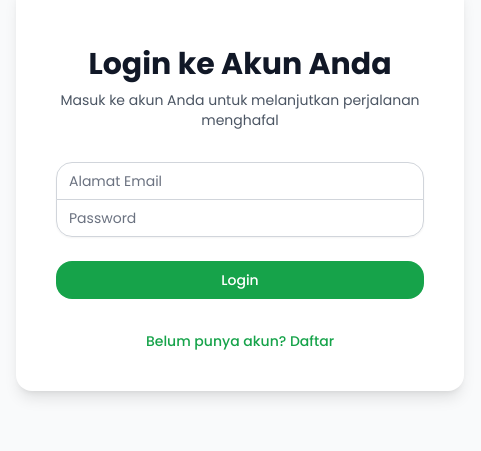
Login Page › login failure displays error message
Type "wrong@example.com" into the field with placeholder "Alamat Email". click: (240, 180)
box: [56,162,424,200]
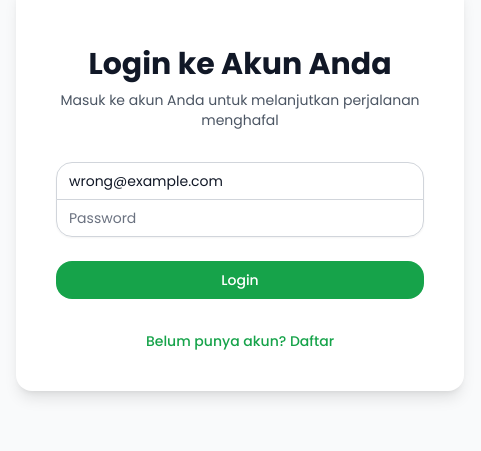
Type "wrongpassword" into the password field with placeholder "Password". click: (240, 218)
box: [56,198,424,236]
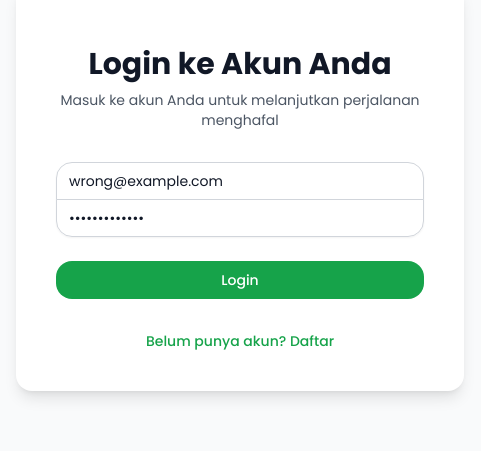
Click the button "Login". click: (240, 280)
box: [56,260,424,298]
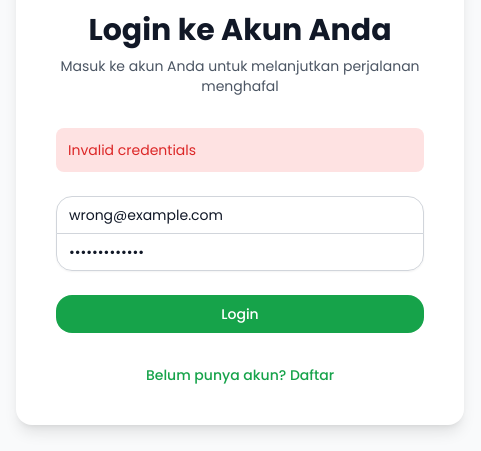
expect the text "Invalid credentials" is shown: met, box [56,128,424,172]
